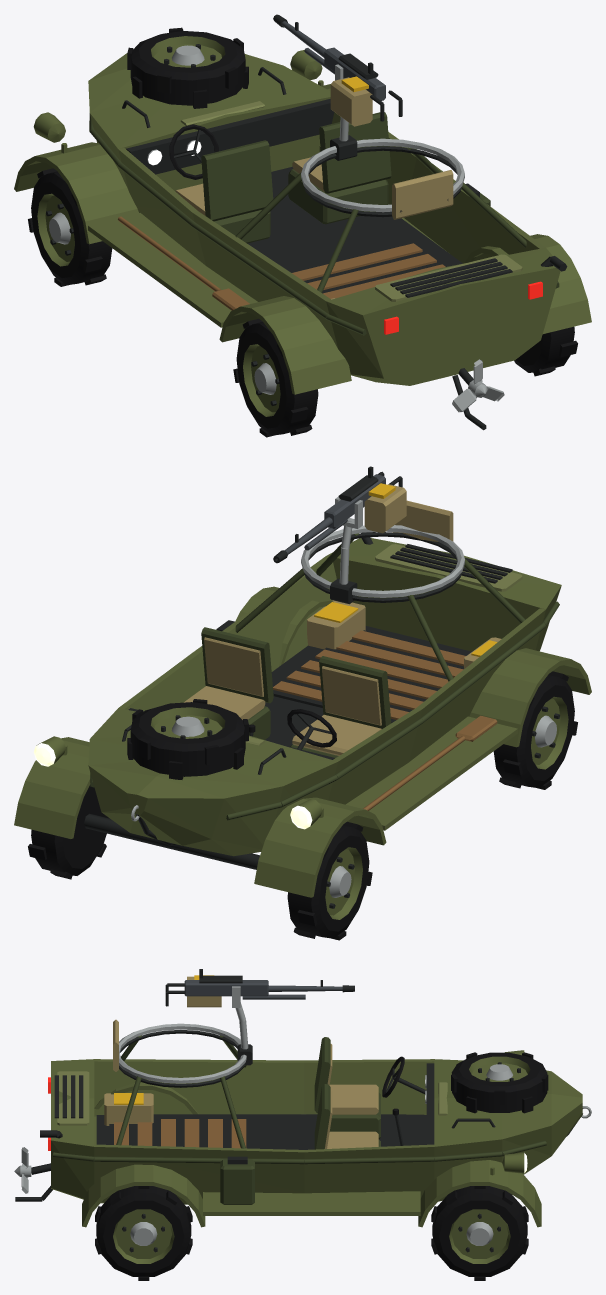
File: amphibious_transport.glb
3 renders of one model, top to bottom at view 1: azimuth 30°, elevation 25°; view 2: azimuth 150°, elevation 25°; view 3: azimuth 270°, elevation 25°, orthographic. The views are drawn at different scales.
Parts seen in each view (by area): view 1: hull, wheel_rl, wheel_fl, gun, gun_mount, wheel_rr, propeller; view 2: hull, wheel_fl, wheel_rl, wheel_fr, gun, gun_mount; view 3: hull, wheel_fr, wheel_rr, gun, gun_mount, barrel, propeller.
Boxes of the visible parts, x1,y1,x2,y2 form: hull: (14, 27, 591, 430); wheel_rl: (233, 318, 318, 437); wheel_fl: (28, 168, 112, 286); gun: (304, 47, 402, 126); gun_mount: (330, 64, 453, 219); wheel_rr: (514, 326, 577, 376); propeller: (452, 359, 504, 412); hull: (14, 525, 591, 897); wheel_fl: (287, 821, 372, 940); wheel_rl: (493, 671, 577, 789); wheel_fr: (28, 785, 109, 879); gun: (304, 466, 406, 550); gun_mount: (330, 496, 453, 604); hull: (15, 1023, 591, 1227); wheel_fr: (431, 1186, 528, 1280); wheel_rr: (95, 1186, 192, 1280); gun: (165, 969, 305, 1007); gun_mount: (113, 986, 252, 1071); barrel: (268, 980, 354, 992); propeller: (14, 1147, 31, 1193).
Size of the model in its own units: 2.27 by 2.27 by 4.68.
